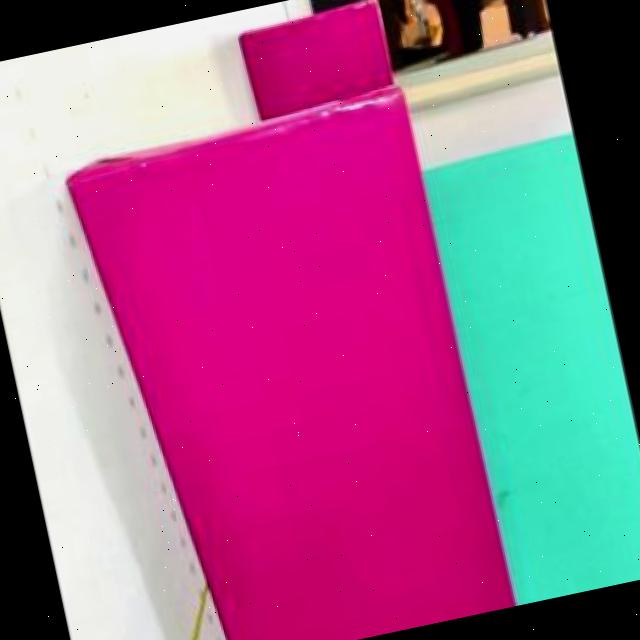xparking: (63, 97, 512, 640), (234, 2, 394, 120)
